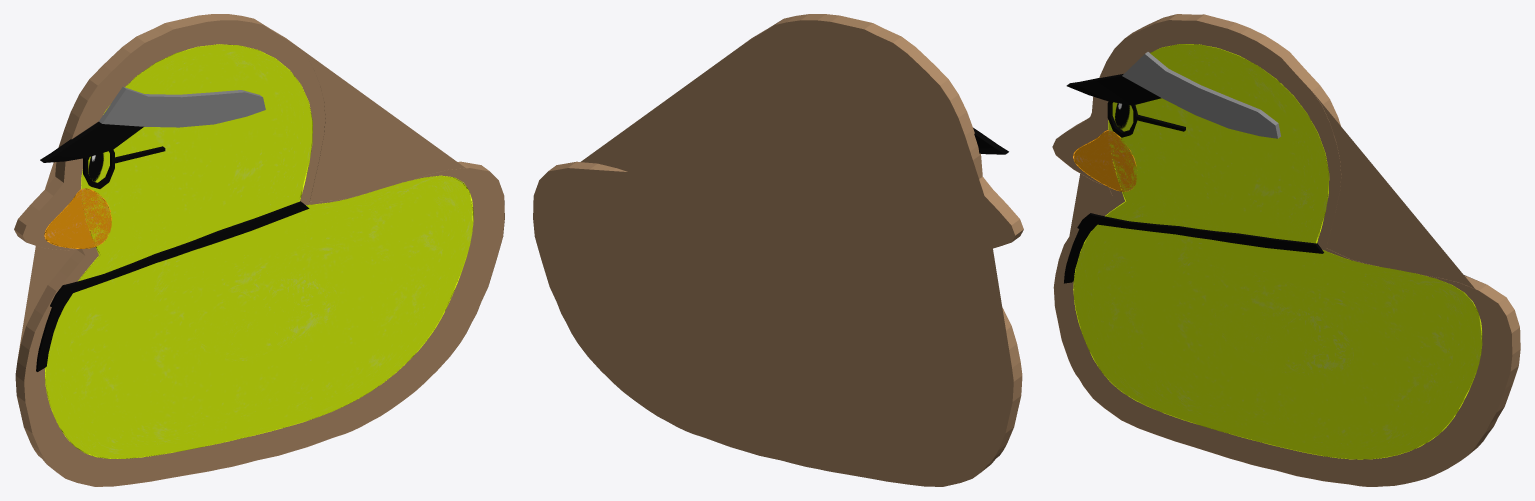
The model's file is banquero.fbx.
3 views of the same model, side by side, from view 1: azimuth 30°, elevation 25°; view 2: azimuth 150°, elevation 25°; view 3: azimuth 330°, elevation 25° (orthographic). The views are drawn at different scales.
Parts seen in each view (by area): view 1: Visor; view 2: Visor; view 3: Visor.
Part boxes in pixels (<box>): Visor: <box>14,14,504,486</box>; Visor: <box>533,14,1023,486</box>; Visor: <box>1052,14,1520,486</box>.
Size of the model in its own units: 144 by 129 by 6.22.
